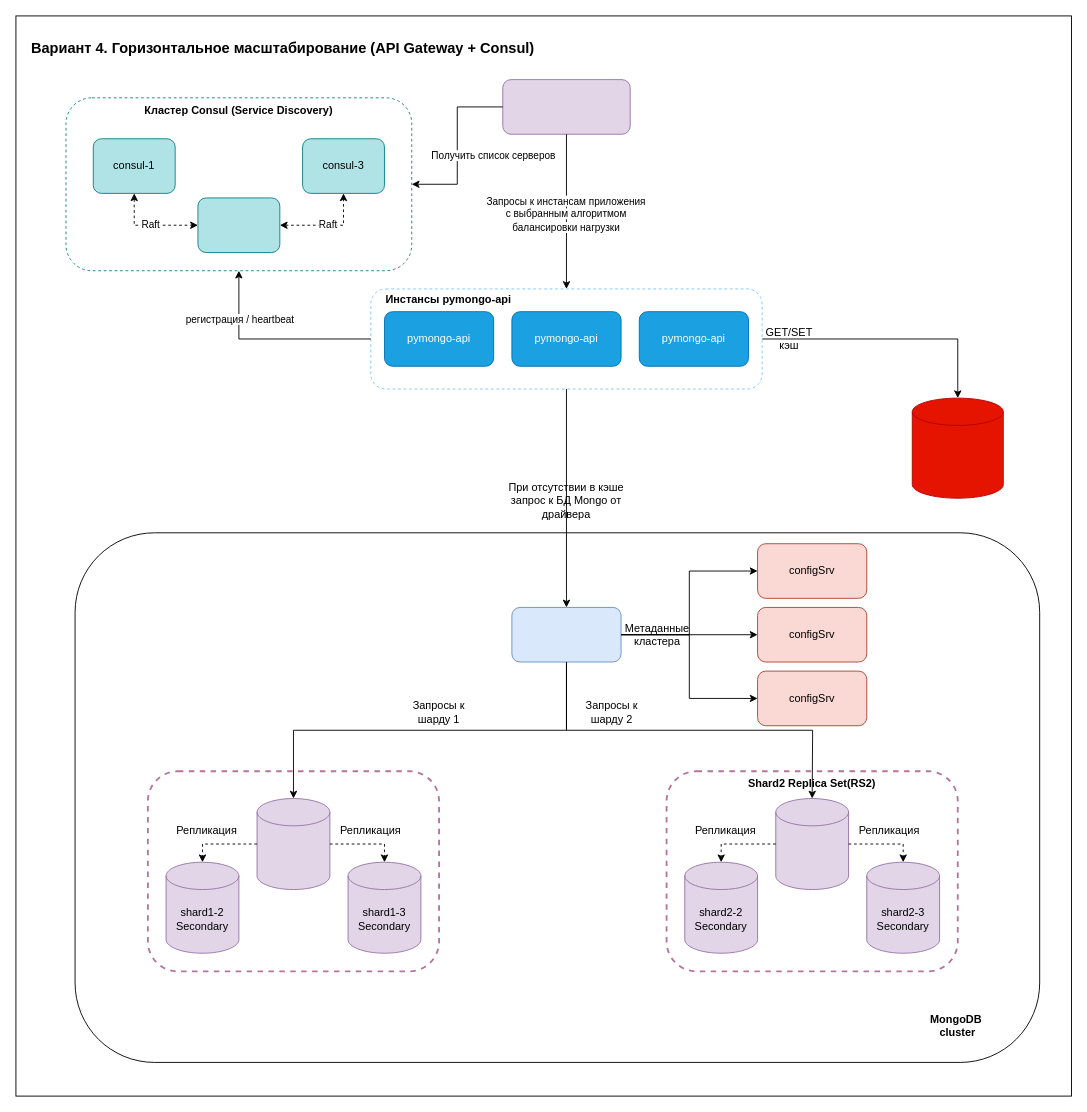
The diagram is 1087 pixels wide and 1112 high, and some of its shapes have lost their labels. Each missing label, with the box of its shape:
API Gateway (балансировка): (502, 79, 630, 134)
consul-2: (197, 197, 280, 253)
mongos_router: (511, 607, 621, 662)
Shard1 Replica Set(RS1): (147, 770, 440, 972)
shard1-1 Primary: (256, 798, 330, 890)
shard2-1 Primary: (775, 798, 849, 890)
Кэш (Redis): (911, 397, 1003, 498)
